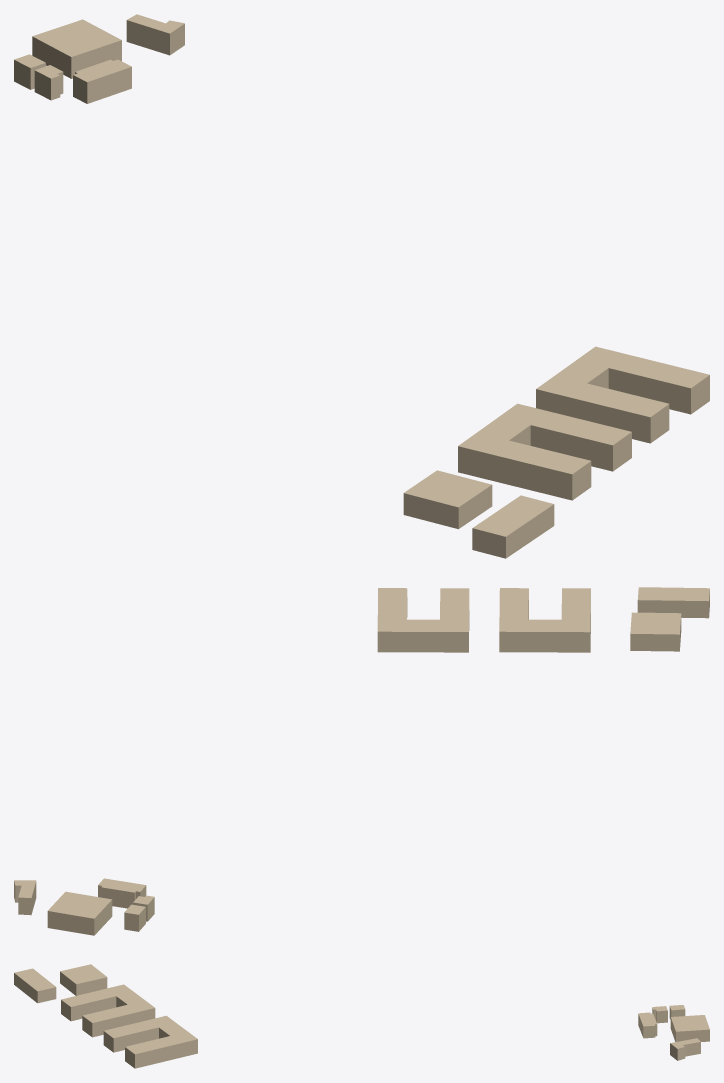
Rendered from -11_10-estimated-coarse.glb.
3 views of the same model, one above another, from view 1: azimuth 30°, elevation 25°; view 2: azimuth 150°, elevation 25°; view 3: azimuth 270°, elevation 25° (orthographic). The views are drawn at different scales.
Size of the model in its own units: 249 by 18 by 792.
